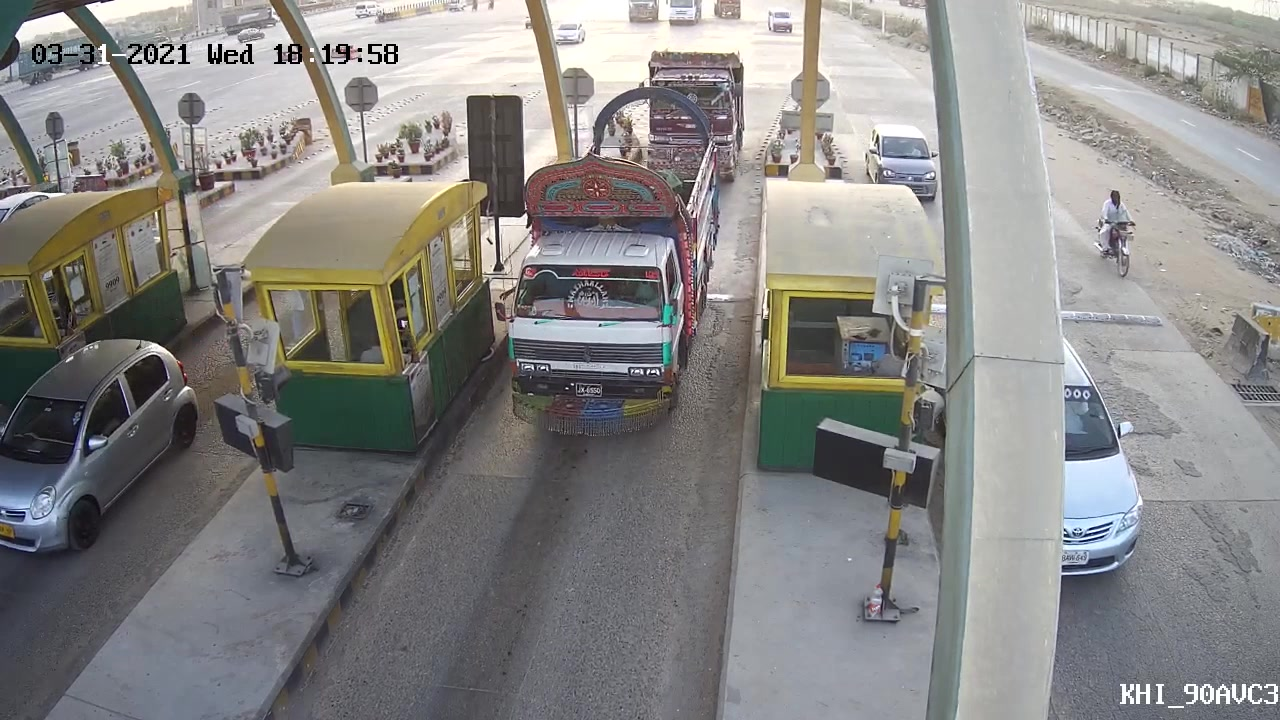F5: (491, 105, 720, 436)
